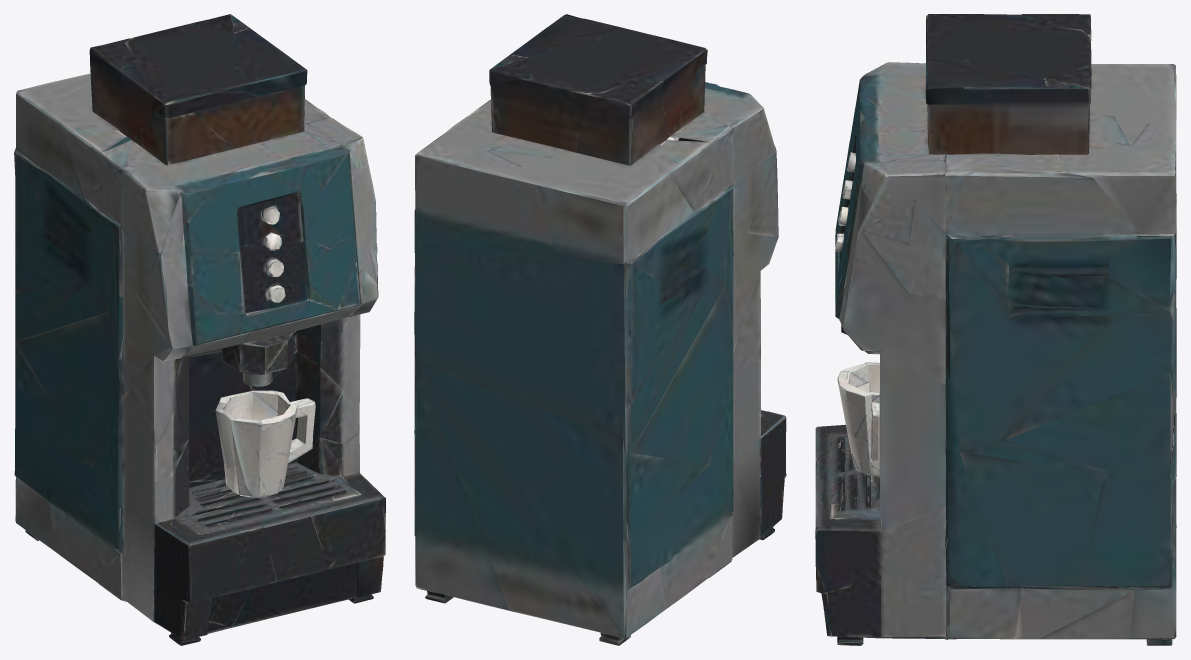
File: capsule_coffee.glb
The picture shows the model from 3 angles, left to right: view 1: azimuth 30°, elevation 25°; view 2: azimuth 150°, elevation 25°; view 3: azimuth 270°, elevation 25°; orthographic projection. The views are drawn at different scales.
Visible parts, largest first — view 1: Mesh_0; view 2: Mesh_0; view 3: Mesh_0.
Boxes of the visible parts, x1,y1,x2,y2 form: Mesh_0: (14, 14, 385, 645); Mesh_0: (414, 14, 786, 645); Mesh_0: (815, 14, 1176, 645).
Bounding box in the file's own units: 0.2064 × 0.4602 × 0.2764.
Materials: 1 (1 with a texture image).
